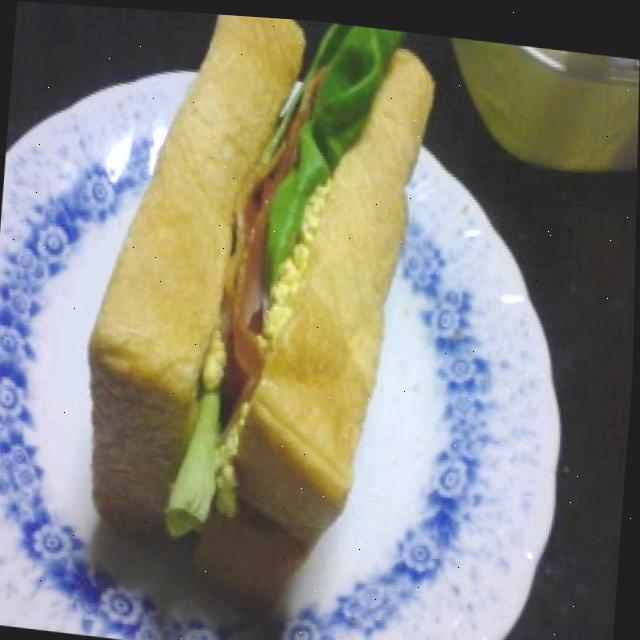三明治: (65, 4, 444, 609)
